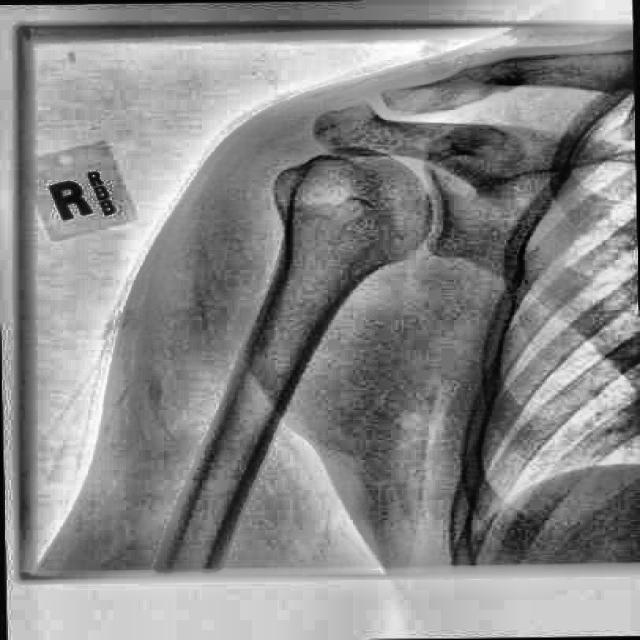shoulder fracture: (435, 45, 558, 112)
